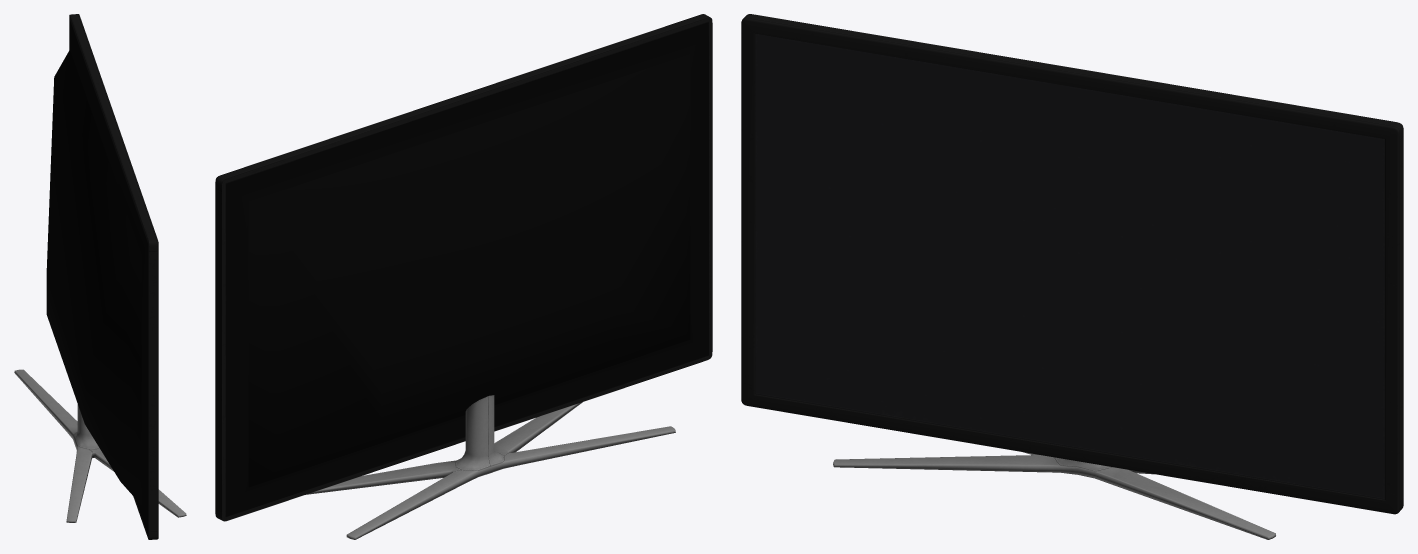
Rendered from monitor.glb.
3 views of the same model, side by side, from view 1: azimuth 30°, elevation 25°; view 2: azimuth 150°, elevation 25°; view 3: azimuth 270°, elevation 25° (orthographic). The views are drawn at different scales.
Parts seen in each view (by area): view 1: aa001; view 2: aa001; view 3: aa001.
Boxes of the visible parts, box(x1,y1,x2,y2) form: aa001: box(14, 14, 186, 539); aa001: box(215, 14, 712, 539); aa001: box(741, 14, 1403, 539).
Size of the model in its own units: 0.3107 by 0.4425 by 0.6495.
Materials: 1 (1 with a texture image).
